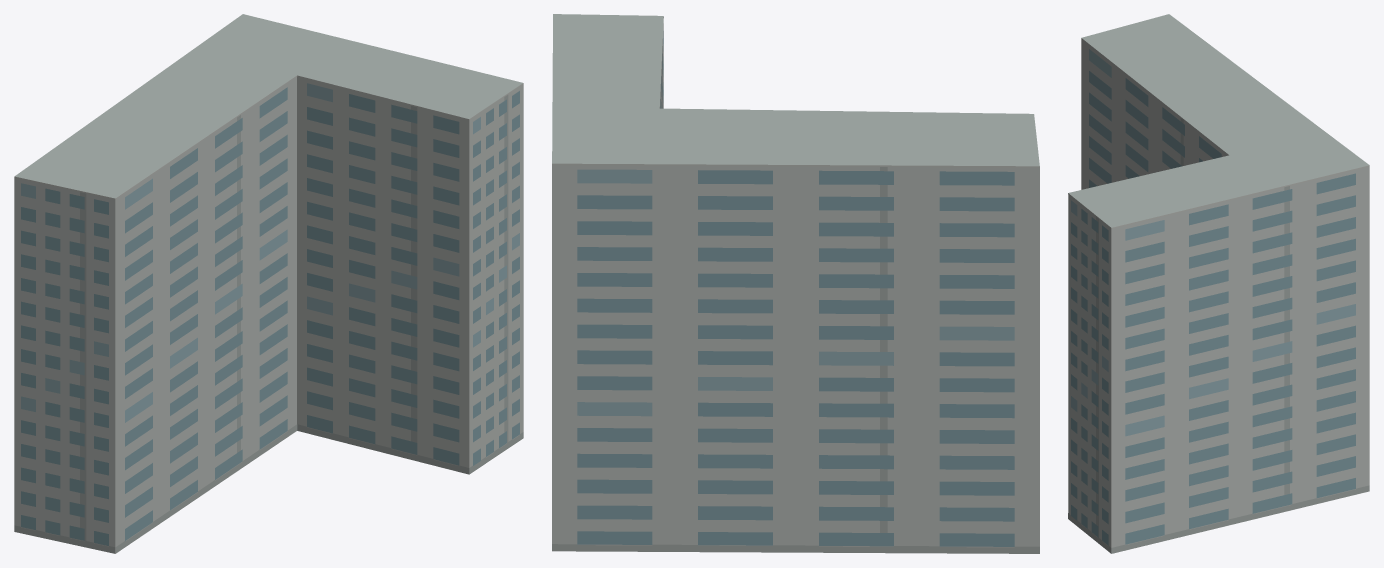
Rendered from residential-9d92c897-23a3-4437-9fc0-2fc7453a676a.glb.
3 views of the same model, side by side, from view 1: azimuth 30°, elevation 25°; view 2: azimuth 150°, elevation 25°; view 3: azimuth 270°, elevation 25° (orthographic). The views are drawn at different scales.
Parts seen in each view (by area): view 1: residential-9d92c897-23a3-4437-9fc0-2fc7453a676a.tmp; view 2: residential-9d92c897-23a3-4437-9fc0-2fc7453a676a.tmp; view 3: residential-9d92c897-23a3-4437-9fc0-2fc7453a676a.tmp.
Part boxes in pixels (box(x1,y1,x2,y2)): residential-9d92c897-23a3-4437-9fc0-2fc7453a676a.tmp: box(14, 14, 523, 553); residential-9d92c897-23a3-4437-9fc0-2fc7453a676a.tmp: box(552, 14, 1039, 553); residential-9d92c897-23a3-4437-9fc0-2fc7453a676a.tmp: box(1068, 14, 1369, 553).
Size of the model in its own units: 91.45 by 65 by 54.5.
